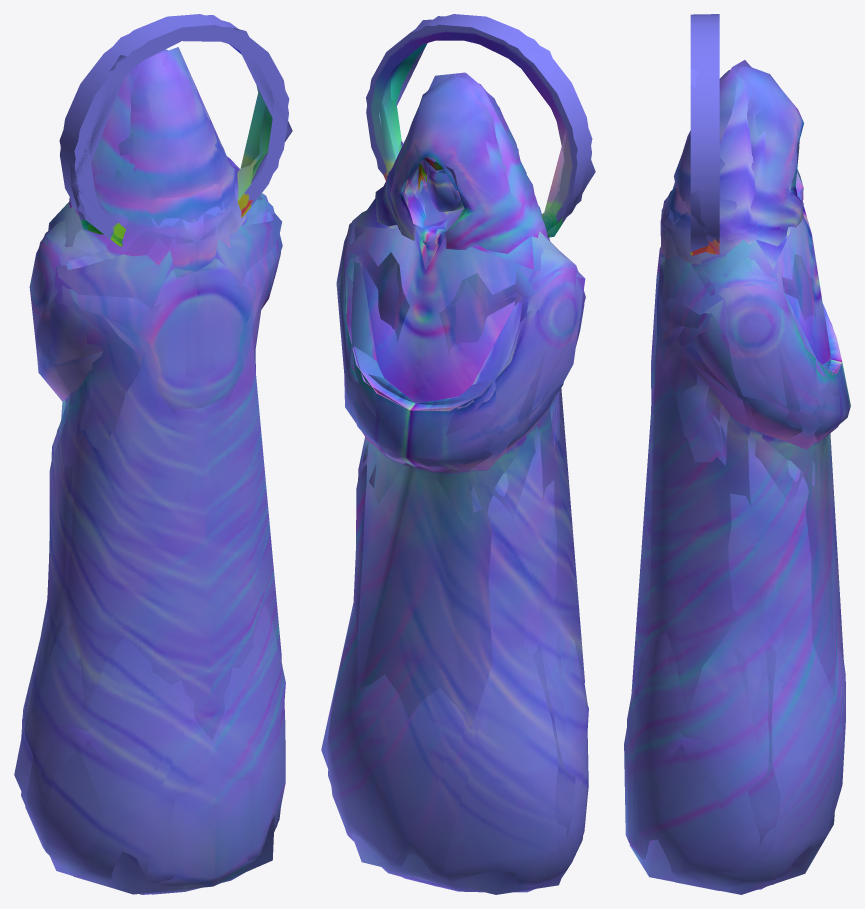
The model's file is Statue.fbx.
3 renders of one model, left to right at view 1: azimuth 30°, elevation 25°; view 2: azimuth 150°, elevation 25°; view 3: azimuth 270°, elevation 25°, orthographic. The views are drawn at different scales.
Visible parts, largest first — view 1: MunkStatue_HQ, MunkStatue_LQ, MunkStatue_MQ; view 2: MunkStatue_HQ, MunkStatue_LQ, MunkStatue_MQ; view 3: MunkStatue_HQ, MunkStatue_LQ, MunkStatue_MQ.
Boxes of the visible parts, x1,y1,x2,y2 form: MunkStatue_HQ: (21, 14, 288, 894); MunkStatue_LQ: (14, 28, 292, 894); MunkStatue_MQ: (21, 15, 289, 894); MunkStatue_HQ: (327, 14, 591, 892); MunkStatue_LQ: (321, 19, 595, 894); MunkStatue_MQ: (328, 16, 592, 892); MunkStatue_HQ: (624, 16, 850, 890); MunkStatue_LQ: (629, 60, 845, 894); MunkStatue_MQ: (627, 14, 850, 891).
Size of the model in its own units: 317 by 1014 by 250.
3 materials, 3 textured.
